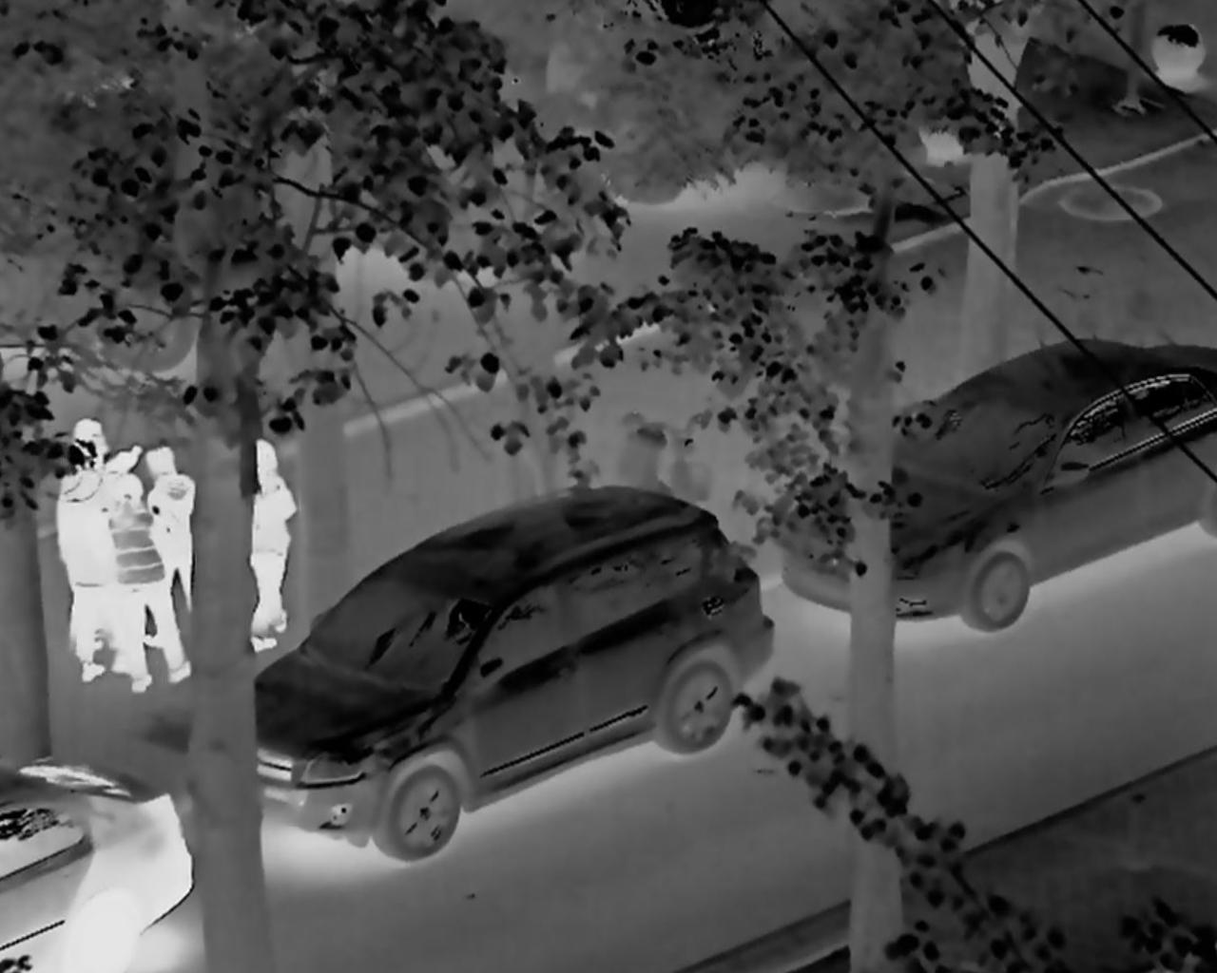person: (29, 439, 120, 681), (104, 448, 183, 695), (135, 429, 203, 600), (245, 433, 299, 641)
